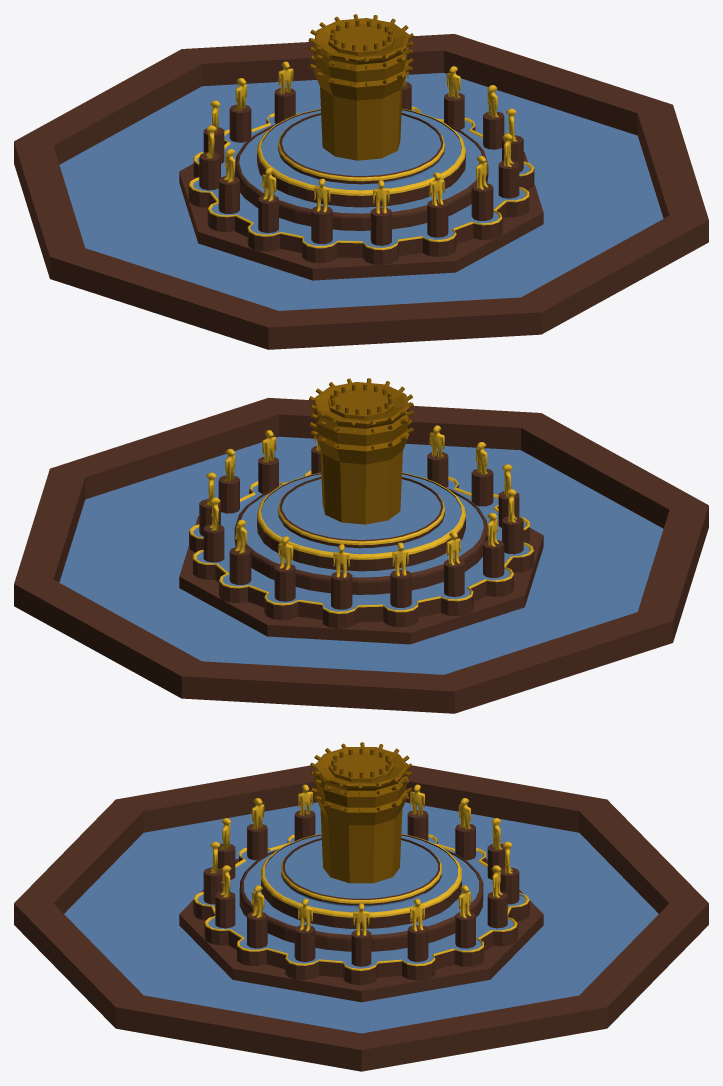
Rendered from druhba_narodov(2).glb.
3 views of the same model, one above another, from view 1: azimuth 30°, elevation 25°; view 2: azimuth 150°, elevation 25°; view 3: azimuth 270°, elevation 25° (orthographic). The views are drawn at different scales.
Visible parts, largest first — view 1: fontan; view 2: fontan; view 3: fontan.
Part boxes in pixels (bbox=[...]): fontan: bbox=[14, 14, 708, 349]; fontan: bbox=[14, 378, 708, 713]; fontan: bbox=[14, 742, 708, 1071].
Bounding box in the file's own units: 11.29 × 2.96 × 11.29.
